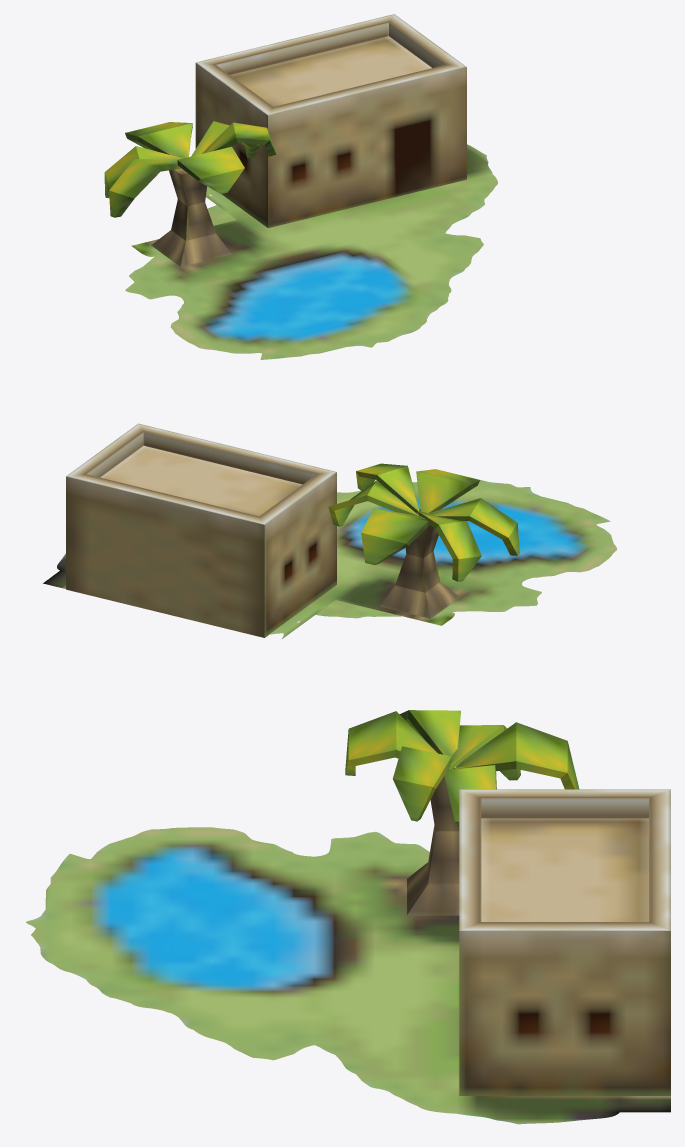
The model's file is Poly_World_Map_Town_House_13.obj.
3 renders of one model, top to bottom at view 1: azimuth 30°, elevation 25°; view 2: azimuth 150°, elevation 25°; view 3: azimuth 270°, elevation 25°, orthographic. The views are drawn at different scales.
Parts seen in each view (by area): view 1: Cube.002_Cube.001, Plane, Cube.002_Cube.002; view 2: Cube.002_Cube.001, Plane, Cube.002_Cube.002; view 3: Plane, Cube.002_Cube.001, Cube.002_Cube.002.
Part boxes in pixels (x1=…): Cube.002_Cube.001: x1=195, y1=14, x2=466, y2=227; Plane: x1=125, y1=144, x2=497, y2=359; Cube.002_Cube.002: x1=104, y1=121, x2=276, y2=266; Cube.002_Cube.001: x1=66, y1=423, x2=336, y2=637; Plane: x1=43, y1=480, x2=616, y2=638; Cube.002_Cube.002: x1=328, y1=463, x2=519, y2=618; Plane: x1=26, y1=827, x2=670, y2=1124; Cube.002_Cube.001: x1=459, y1=789, x2=670, y2=1095; Cube.002_Cube.002: x1=345, y1=710, x2=579, y2=915.
Size of the model in its own units: 1 by 0.2597 by 0.9.
Materials: 1 (1 with a texture image).
